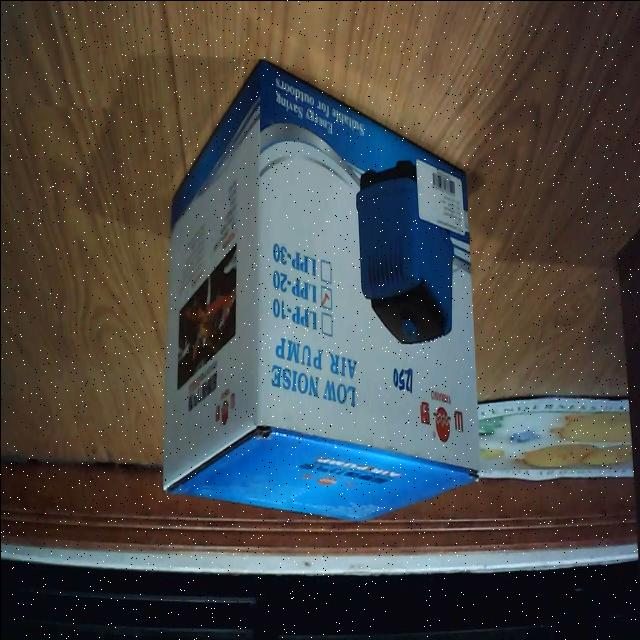YAMANO_LPP_20: (145, 49, 491, 541)
